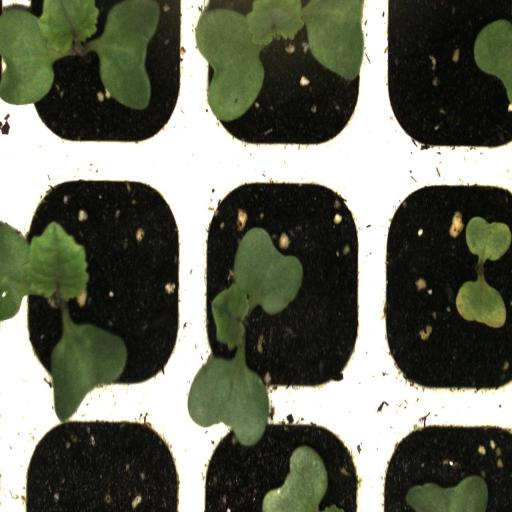seedling: (184, 167, 375, 402), (11, 165, 192, 405), (192, 1, 372, 162), (12, 1, 190, 157)
weak: (375, 169, 512, 400)
